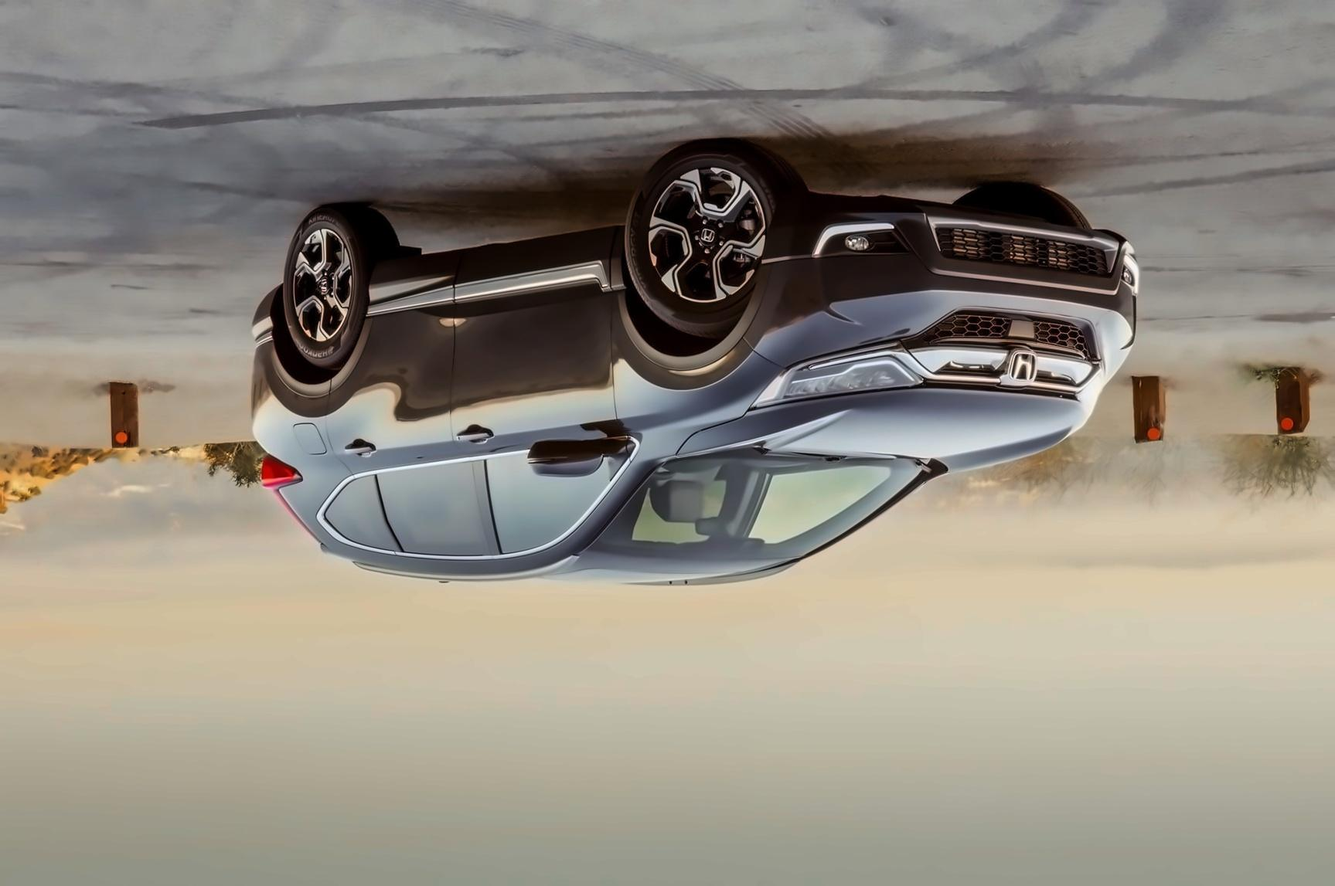Car hood: (662, 386, 1104, 473)
Fender - -F-L-: (589, 229, 776, 477)
Fender - -R-L-: (251, 348, 367, 558)
Front bumper: (732, 173, 1147, 392)
Headlight - -L-: (739, 337, 932, 421)
Passenger-s door - -F-L-: (432, 192, 626, 583)
Passenger-s door - -R-L-: (317, 215, 517, 573)
Rear bumper: (238, 278, 295, 424)
Side bumper - -L-: (346, 216, 626, 359)
Side mirror - -L-: (532, 428, 628, 490)
